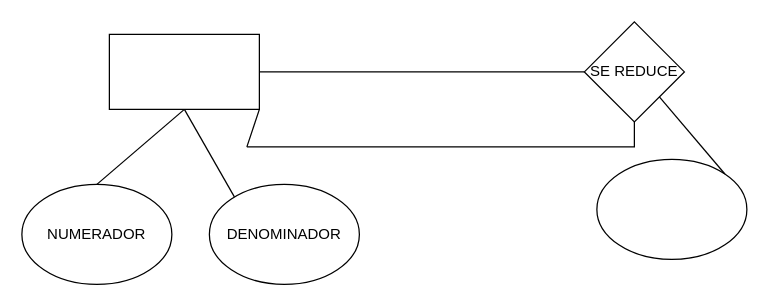
Some shapes in this 769 by 306 pixel diagram are drawn without their labels. The box of each missing label's shape, as (x1, y1, x2, y2) in pixels:
FACTOR: (596, 158, 747, 259)
FRACCIÓN: (108, 33, 259, 109)
